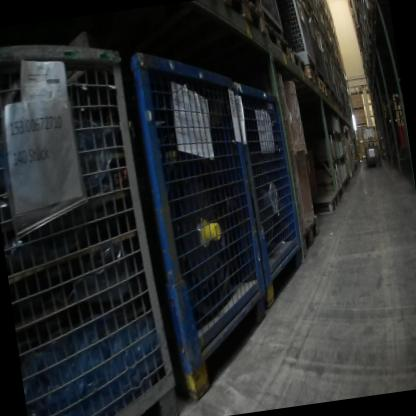pallet: (204, 0, 270, 44), (259, 14, 292, 62), (297, 212, 327, 255), (310, 187, 341, 220), (284, 44, 308, 77), (300, 53, 317, 89), (366, 2, 380, 37), (313, 72, 328, 102), (361, 48, 375, 76), (357, 138, 380, 154), (366, 32, 377, 57), (335, 182, 346, 201), (294, 0, 311, 10), (328, 87, 336, 107), (368, 0, 380, 12)
stillage: (0, 29, 180, 416), (119, 29, 282, 411), (220, 65, 322, 321), (284, 0, 318, 75), (302, 5, 330, 91), (318, 27, 337, 96), (255, 0, 288, 36), (332, 61, 348, 111), (329, 55, 341, 107)
